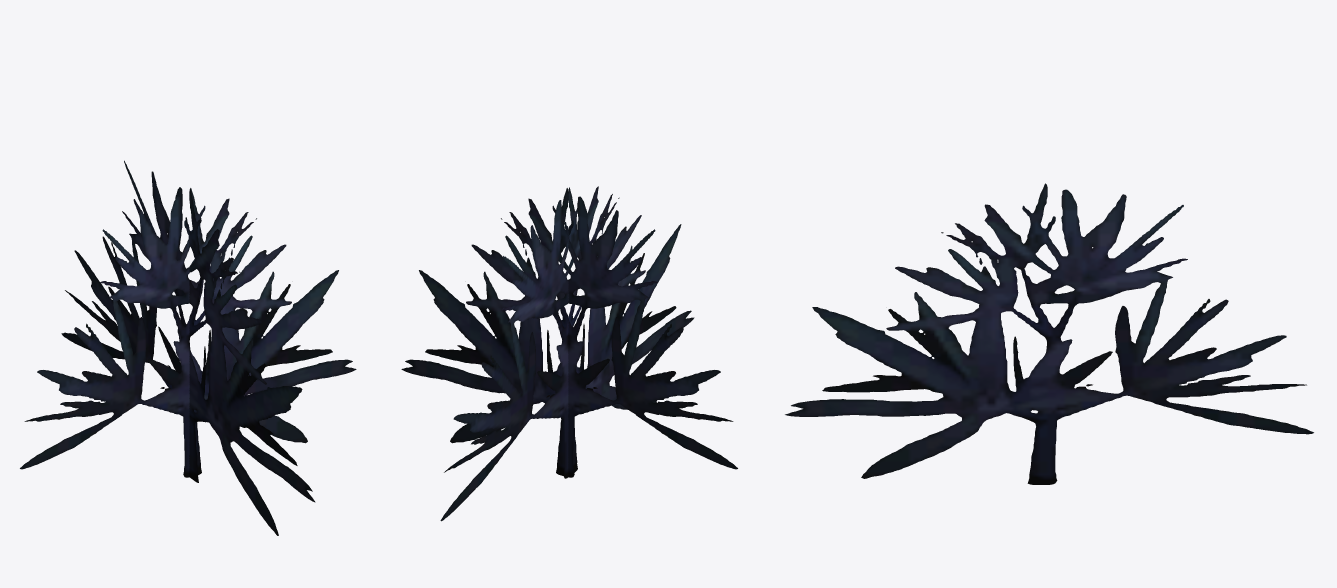
The model's file is shrb_blueleaf_big_l2.fbx.
3 renders of one model, left to right at view 1: azimuth 30°, elevation 25°; view 2: azimuth 150°, elevation 25°; view 3: azimuth 270°, elevation 25°, orthographic. The views are drawn at different scales.
Parts seen in each view (by area): view 1: mesh_node; view 2: mesh_node; view 3: mesh_node.
Part boxes in pixels (<box>): mesh_node: <box>20,160,356,535</box>; mesh_node: <box>401,186,737,521</box>; mesh_node: <box>785,183,1313,484</box>.
Size of the model in its own units: 2.7 by 2.7 by 3.53.
Materials: 1 (1 with a texture image).
